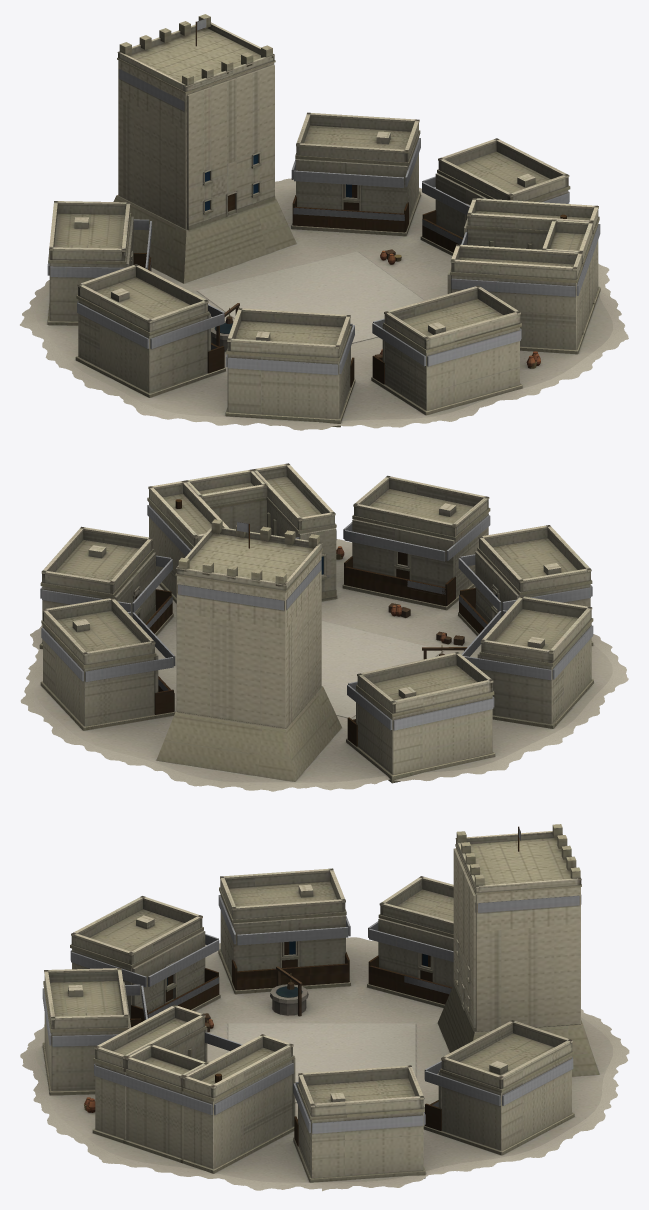
File: classical-town-small-b-israelite.glb
3 renders of one model, top to bottom at view 1: azimuth 30°, elevation 25°; view 2: azimuth 150°, elevation 25°; view 3: azimuth 270°, elevation 25°, orthographic.
Parts seen in each view (by area): view 1: LOD0; view 2: LOD0; view 3: LOD0.
Part boxes in pixels (x1,y1,x2,y2): LOD0: (20, 14, 628, 430); LOD0: (20, 463, 628, 791); LOD0: (20, 824, 629, 1191).
Size of what is drawn, in the model's own units: 3.95 by 1.6 by 3.98.
Materials: 3 (3 with a texture image).
